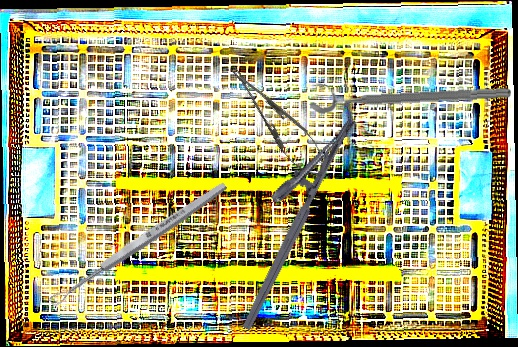Fixation Ring: (308, 70, 512, 115)
Needle Holder: (212, 102, 358, 332), (219, 55, 340, 191)
Surgical Spoon: (47, 179, 229, 309)
